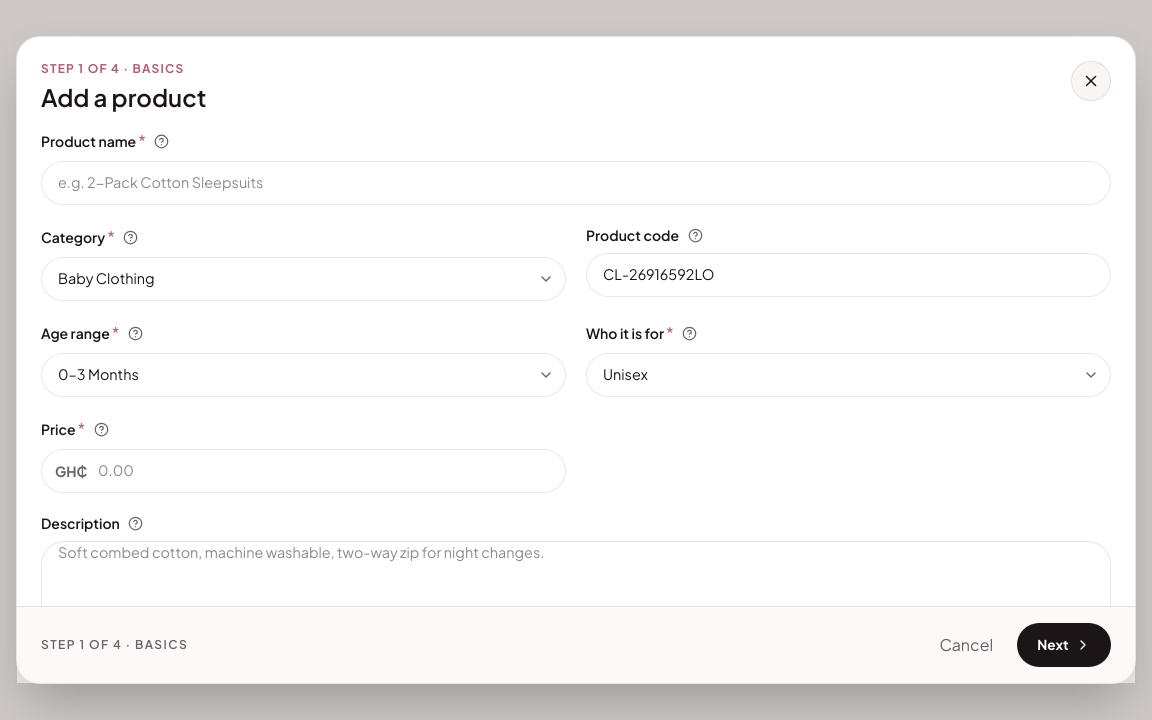
creating a product › will not move past the photos step without a main photo
In the field labelled "Product name": (576, 183) [41,161,1111,205], type "Sleepsuit"
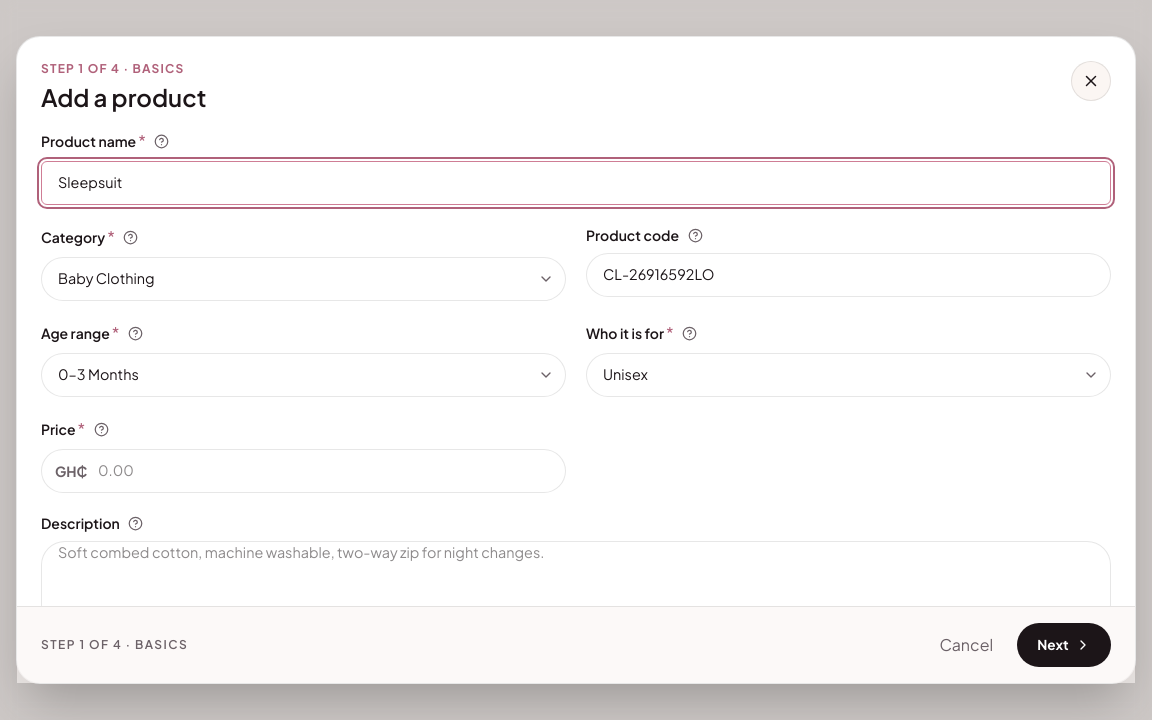
In the number field labelled "Price": (304, 471) [41,449,566,493], type "40"
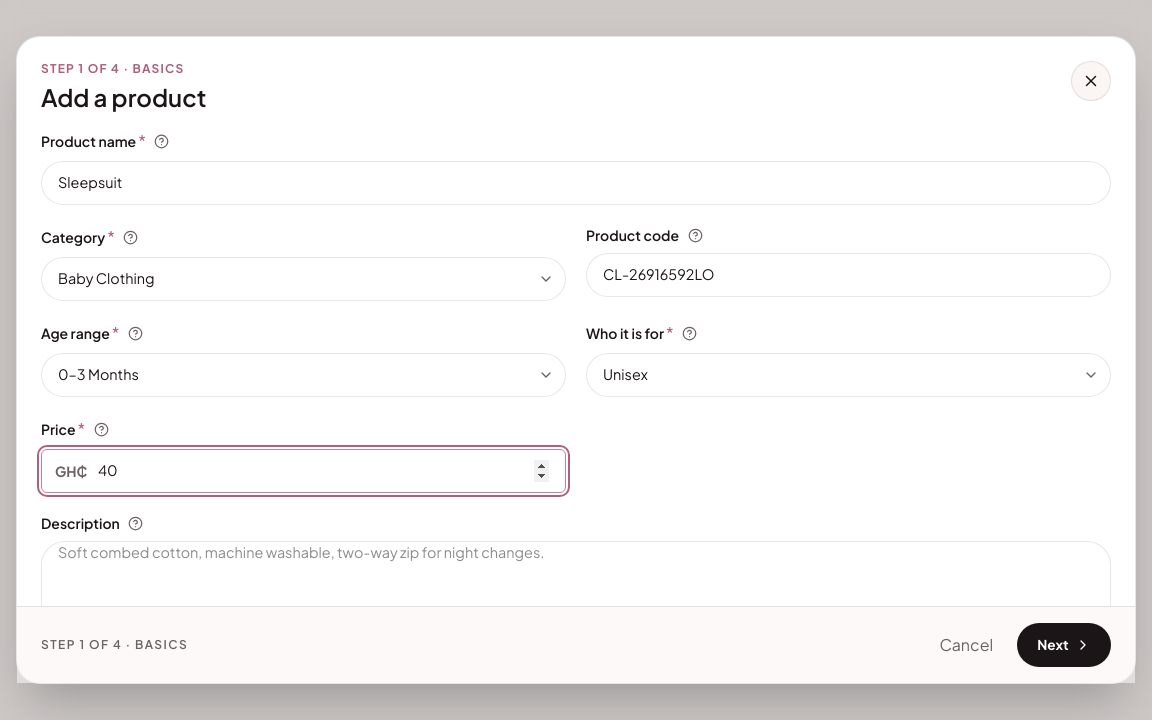
Click the button "Next": (1064, 645) [1017,623,1111,667]
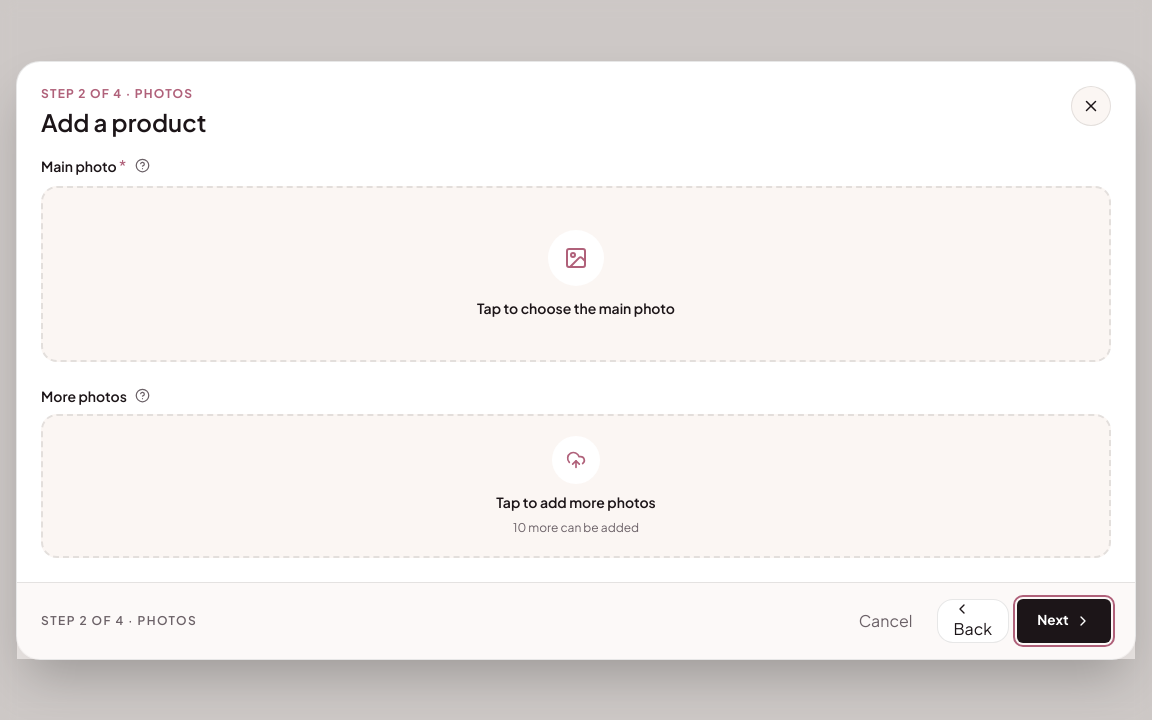
Click the button "Next": (1064, 620) [1017,598,1111,642]
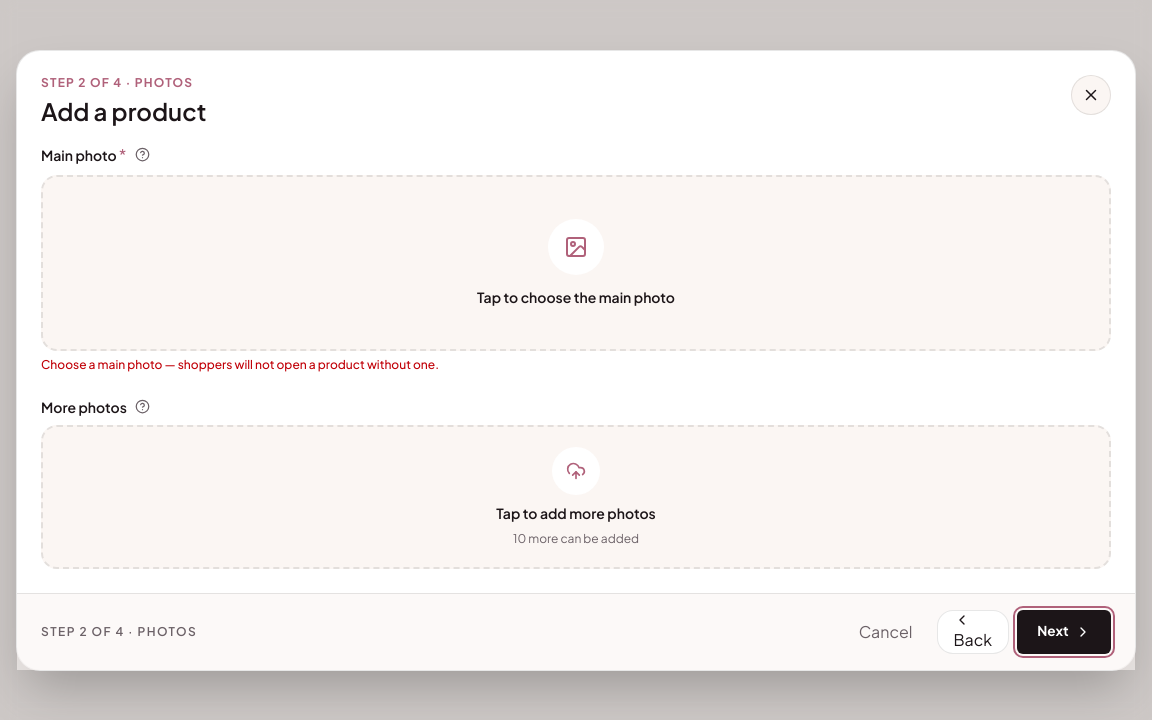
expect the text "Choose a main photo — shoppers will not open a product without one." is shown: met, box [41,356,439,372]
